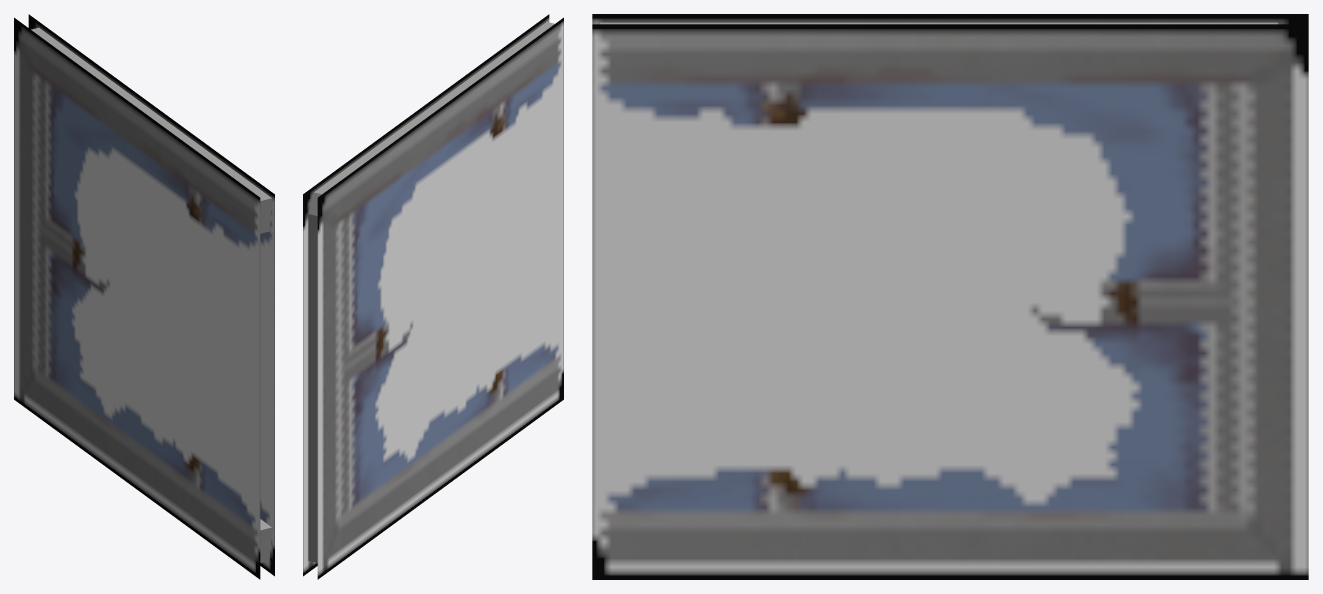
Rendered from pz_native_location_community_church_small_01_248_frame.obj.
3 views of the same model, side by side, from view 1: azimuth 30°, elevation 25°; view 2: azimuth 150°, elevation 25°; view 3: azimuth 270°, elevation 25° (orthographic). The views are drawn at different scales.
Visible parts, largest first — view 1: pz_native_location_community_church_small_01_248_frame; view 2: pz_native_location_community_church_small_01_248_frame; view 3: pz_native_location_community_church_small_01_248_frame.
Part boxes in pixels (left/top/right/bottom): pz_native_location_community_church_small_01_248_frame: left=14, top=14, right=274, bottom=579; pz_native_location_community_church_small_01_248_frame: left=303, top=14, right=563, bottom=579; pz_native_location_community_church_small_01_248_frame: left=592, top=14, right=1308, bottom=579.
Size of the model in its own units: 0.04 by 1.02 by 1.19.
1 material, 1 textured.
